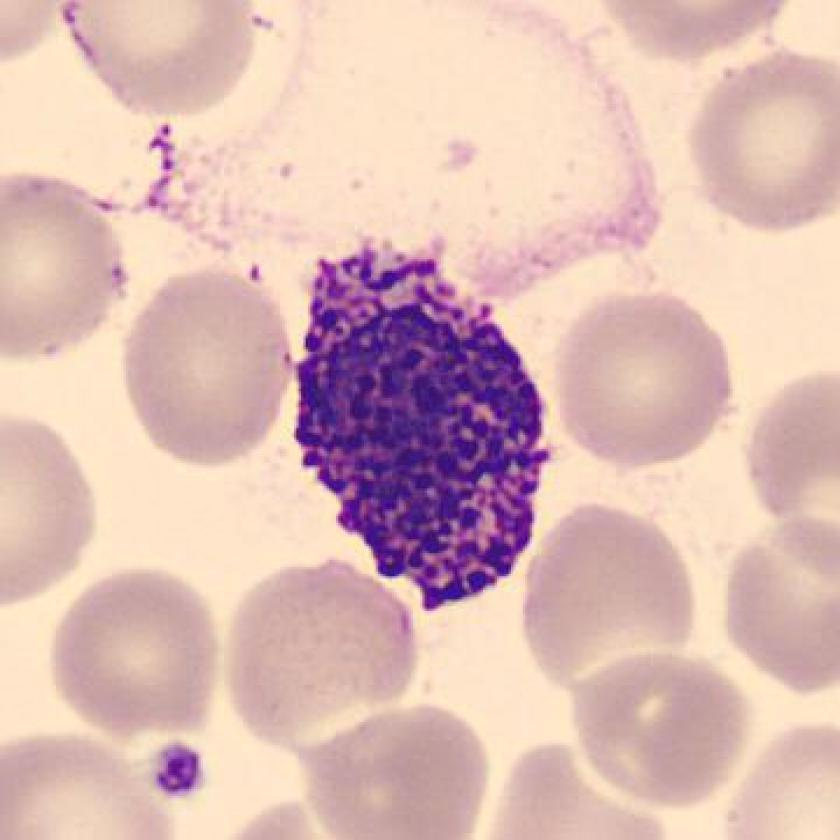basophil: (283, 226, 561, 615)
